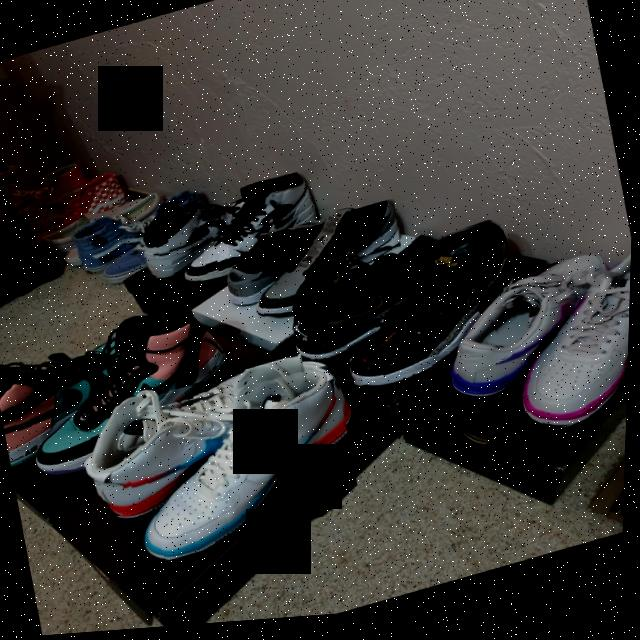shoe: (117, 361, 368, 571), (71, 357, 326, 527), (17, 305, 230, 481), (330, 221, 532, 395), (489, 280, 633, 451), (434, 258, 619, 384), (243, 203, 412, 325), (161, 173, 325, 291), (275, 251, 424, 370), (0, 327, 125, 443), (212, 205, 349, 307), (133, 196, 245, 283)
